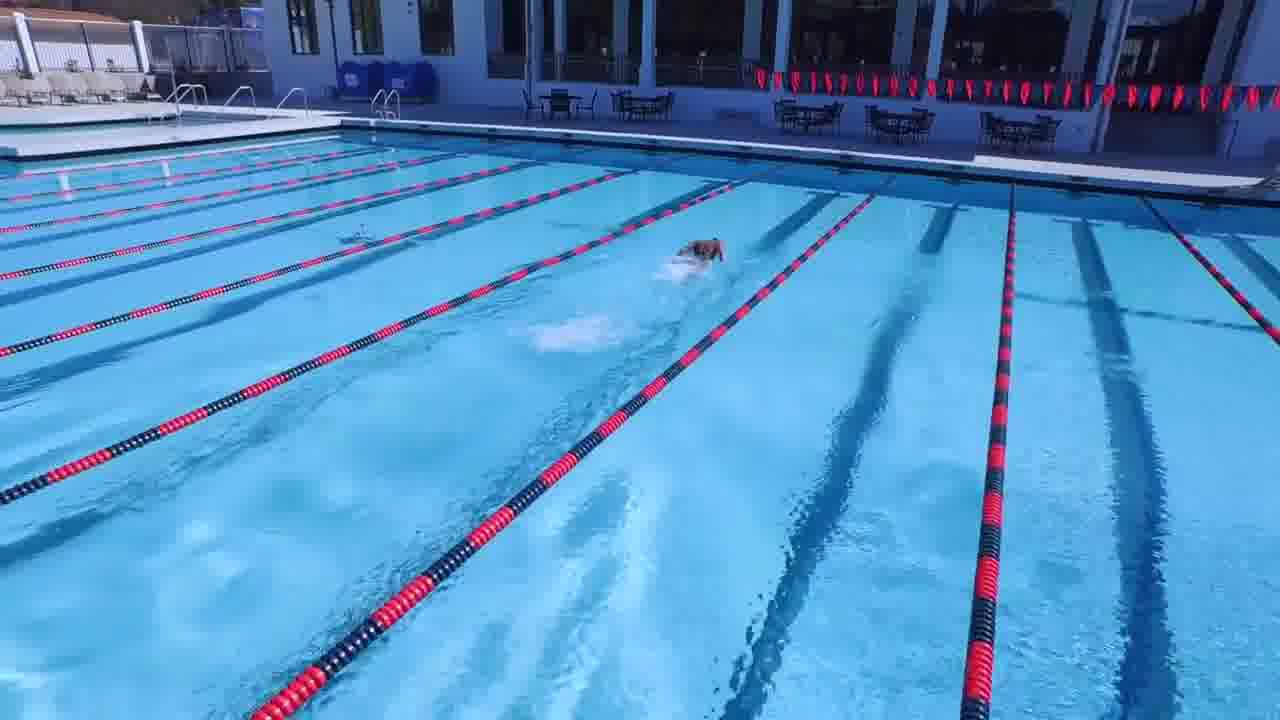swimmer: (677, 232, 734, 268)
